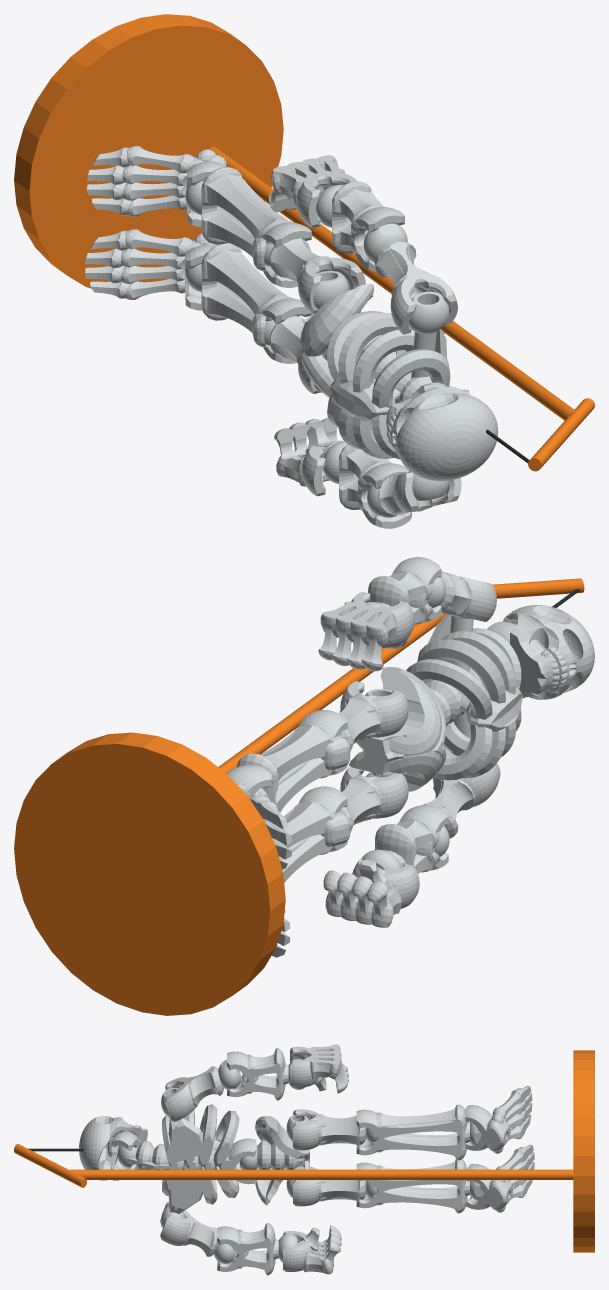
Rendered from tinker.obj.
The picture shows the model from 3 angles, top to bottom: view 1: azimuth 30°, elevation 25°; view 2: azimuth 150°, elevation 25°; view 3: azimuth 270°, elevation 25°; orthographic projection. The views are drawn at different scales.
Parts seen in each view (by area): view 1: group_0_-2235676, group_0_-687329; view 2: group_0_-2235676, group_0_-687329; view 3: group_0_-2235676, group_0_-687329.
Boxes of the visible parts, x1,y1,x2,y2 form: group_0_-2235676: (85, 146, 498, 528); group_0_-687329: (14, 14, 594, 471); group_0_-2235676: (226, 557, 594, 957); group_0_-687329: (14, 578, 584, 1015); group_0_-2235676: (79, 1044, 534, 1275); group_0_-687329: (14, 1050, 594, 1252).
Size of the model in its own units: 9.5 by 11.5 by 27.
